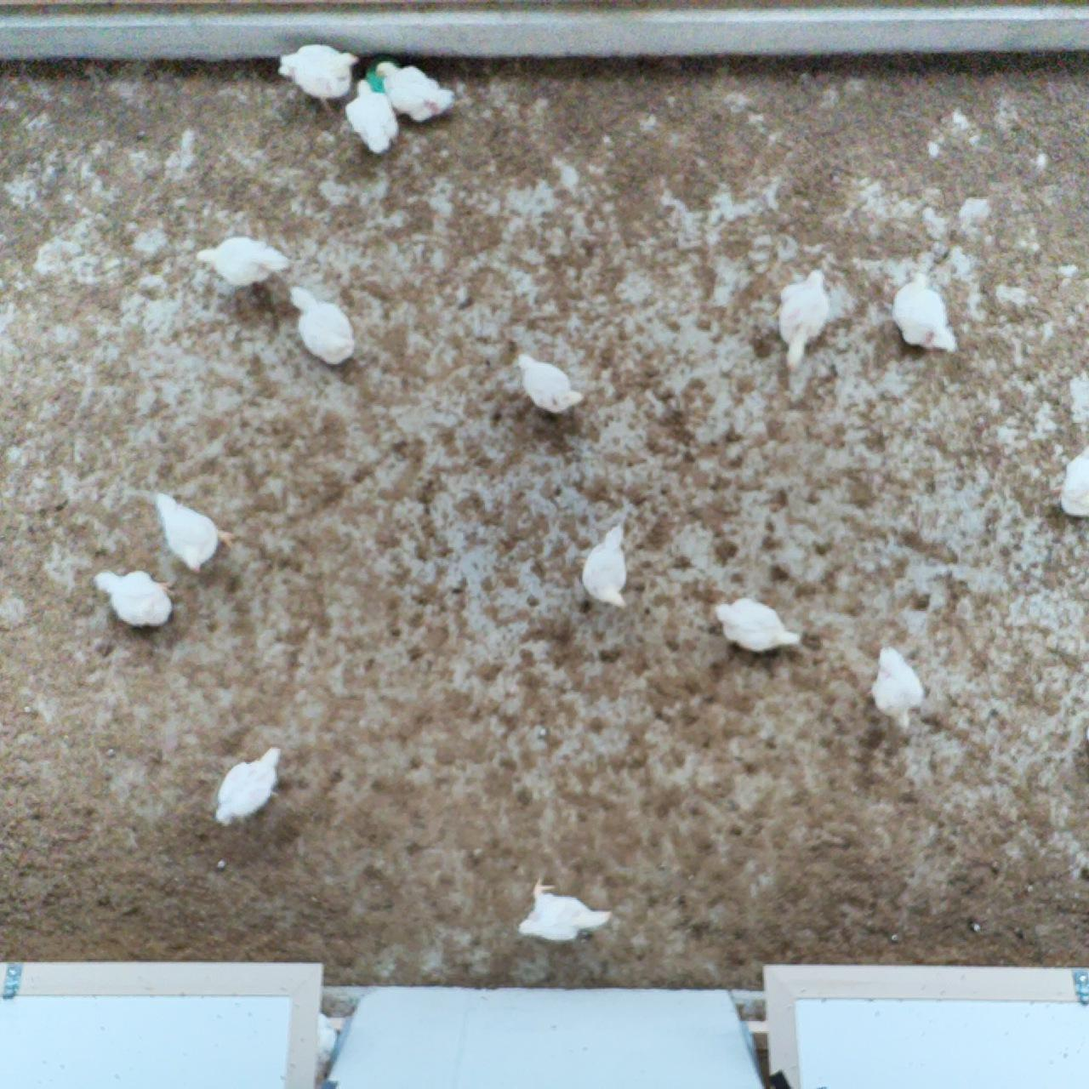chicken: (150, 488, 238, 577), (520, 870, 616, 951), (284, 280, 355, 366), (214, 745, 286, 827), (892, 266, 959, 353), (371, 56, 455, 125), (90, 564, 175, 632), (777, 266, 832, 370), (279, 42, 359, 113), (868, 643, 926, 737), (712, 597, 805, 655), (194, 233, 291, 287), (514, 346, 586, 416), (341, 76, 401, 157), (583, 523, 634, 609), (1051, 442, 1089, 528)
